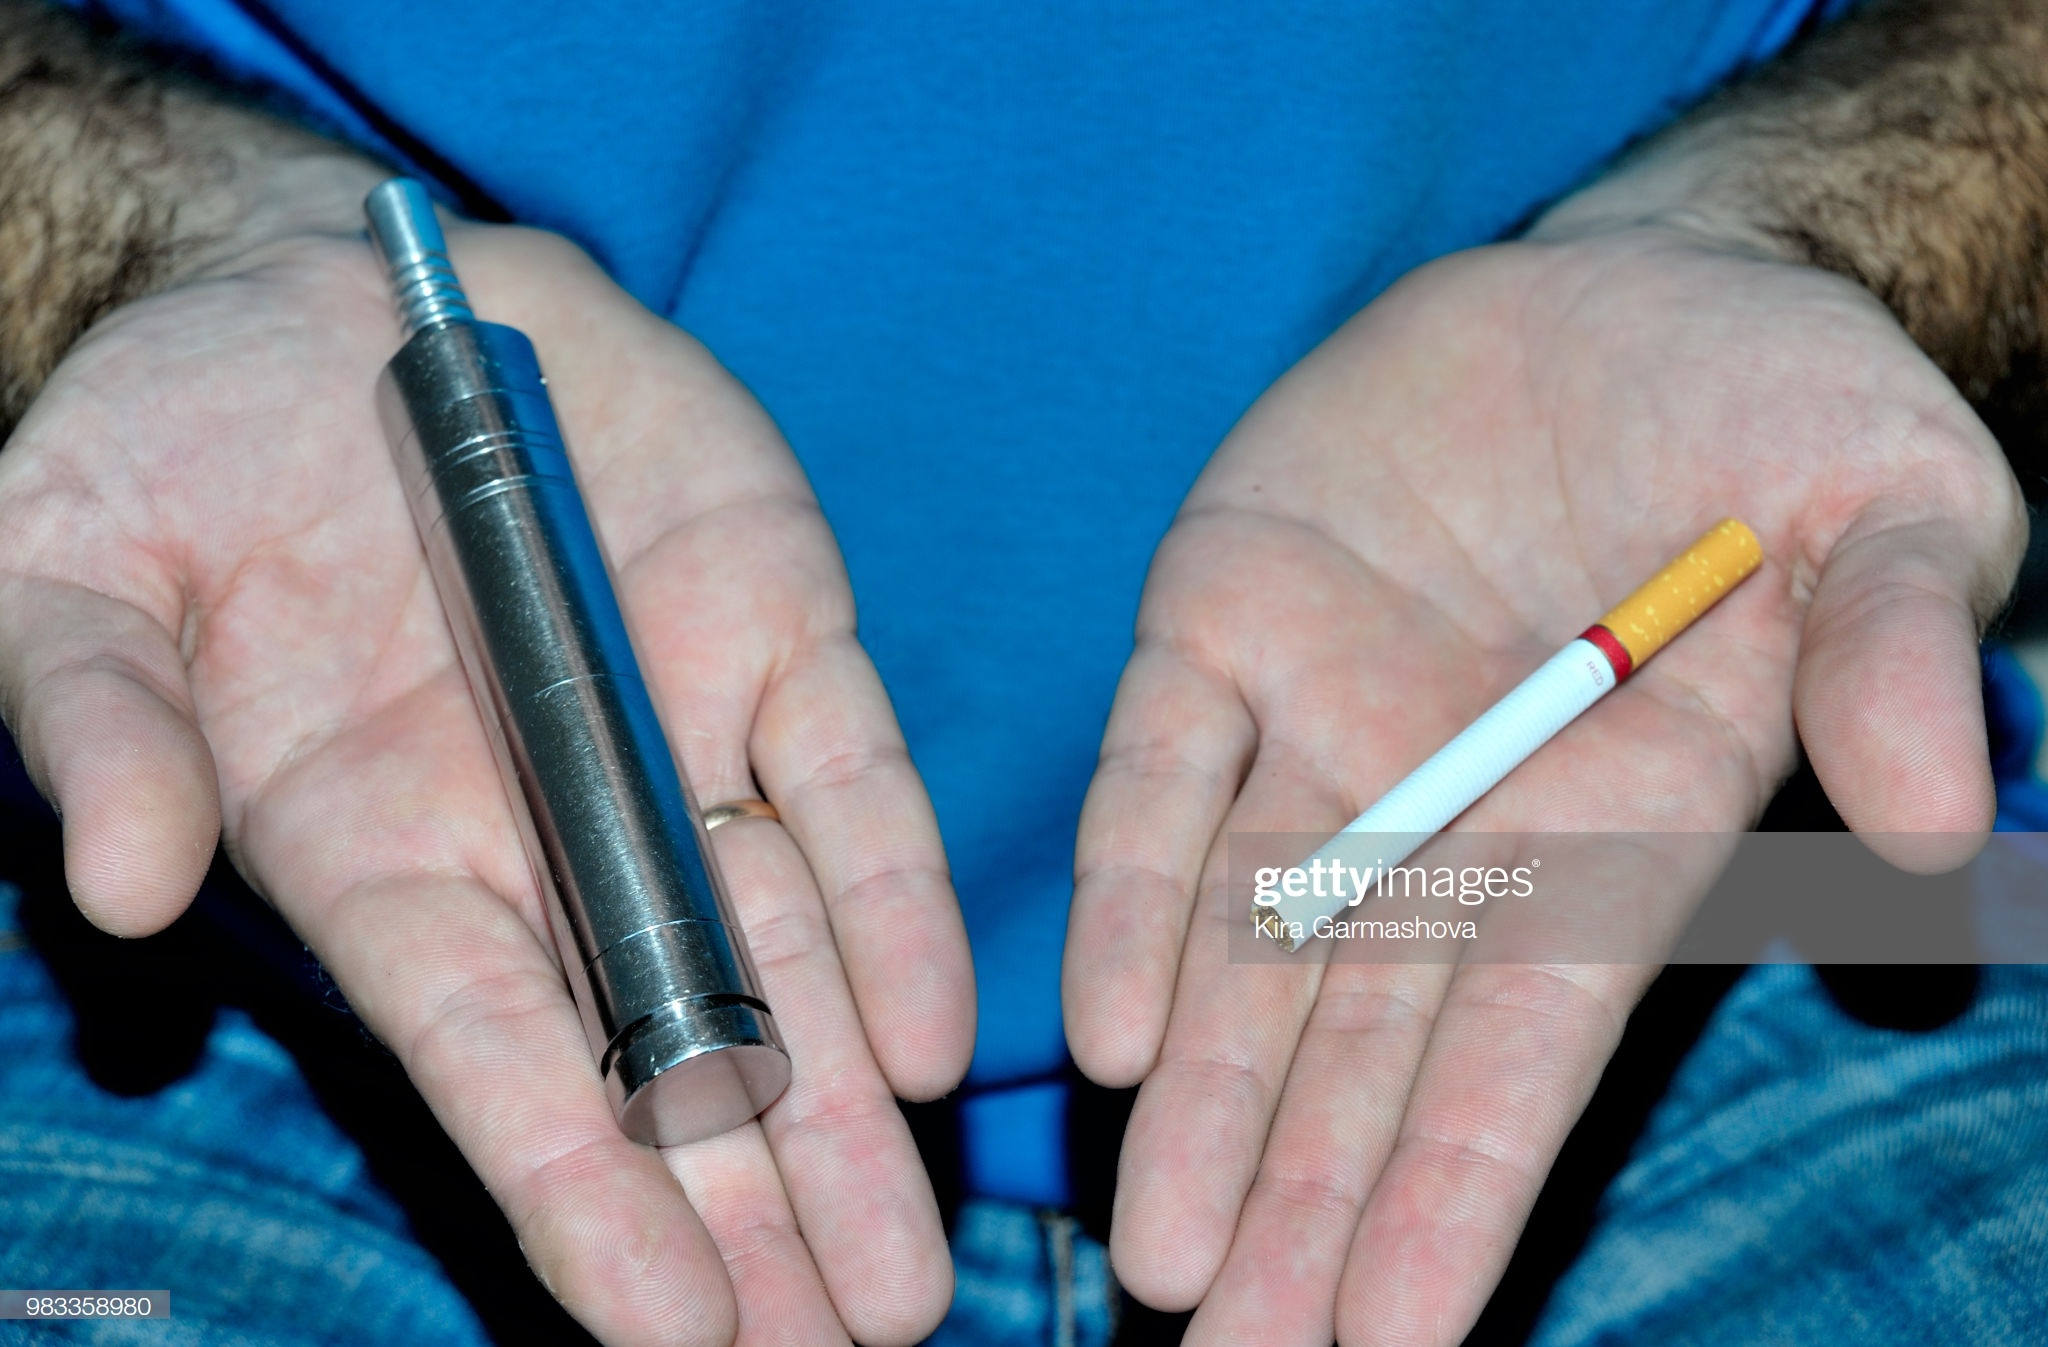sigaretta: (1258, 513, 1726, 940)
